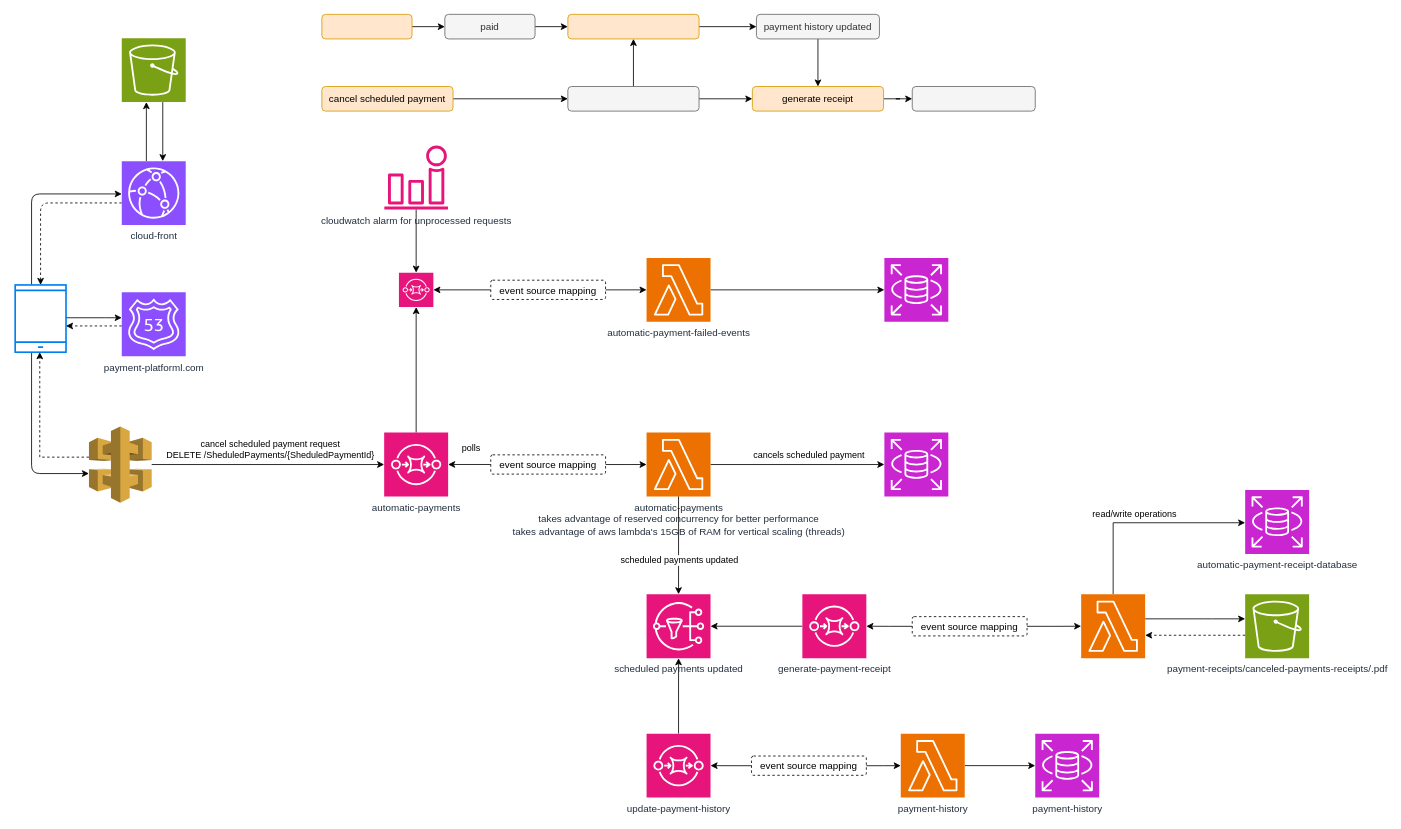
The diagram is 1401 pixels wide and 829 high, and some of its shapes have lost their labels. The box of each missing label's shape, as (x1, y1, x2, y2) in pixels:
automatic-payments-dlq: (398, 272, 433, 307)
failed payment events and commands: (884, 257, 948, 322)
payment-receipts: (1080, 593, 1145, 658)
perform payment: (321, 14, 412, 39)
public payment api gateway: (88, 426, 152, 503)
receipt generated: (911, 86, 1035, 111)
scheduled payment canceled: (567, 86, 699, 111)
scheduled-payments: (884, 432, 948, 497)
static content web: (121, 37, 186, 102)
update payment history: (567, 14, 699, 39)
